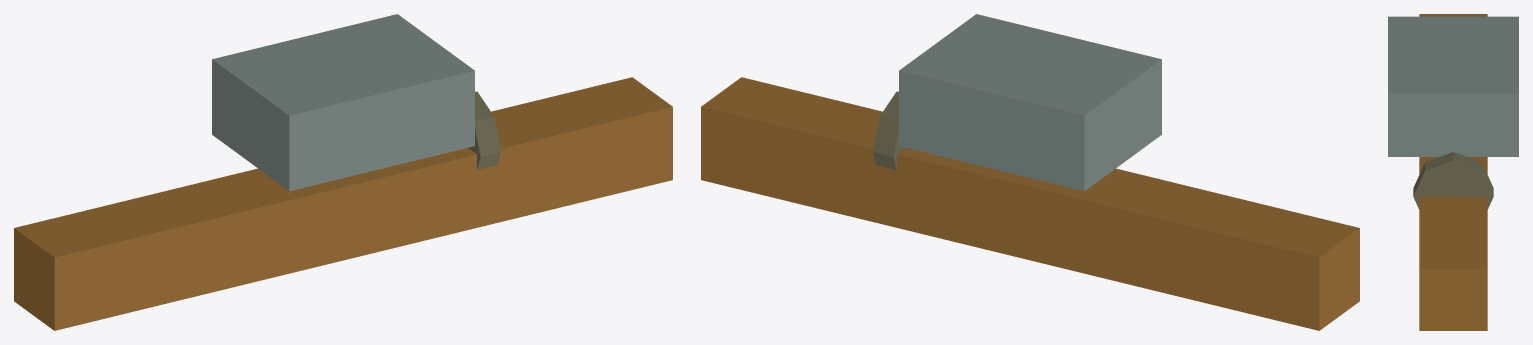
File: SM_ObraHerramientas_v4_10m_LOD1.fbx
The picture shows the model from 3 angles, left to right: view 1: azimuth 30°, elevation 25°; view 2: azimuth 150°, elevation 25°; view 3: azimuth 270°, elevation 25°; orthographic projection. The views are drawn at different scales.
Parts seen in each view (by area): view 1: SM_obra_curso_v19_LOD1; view 2: SM_obra_curso_v19_LOD1; view 3: SM_obra_curso_v19_LOD1.
Boxes of the visible parts, box(x1,y1,x2,y2) form: SM_obra_curso_v19_LOD1: box(14, 14, 672, 330); SM_obra_curso_v19_LOD1: box(701, 14, 1359, 330); SM_obra_curso_v19_LOD1: box(1388, 14, 1518, 330).
Size of the model in its own units: 3 by 0.815 by 0.65.
